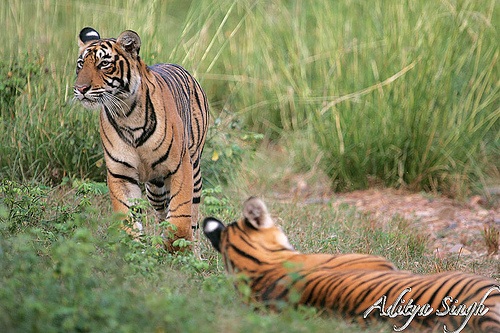Tigre: (58, 21, 209, 243), (222, 209, 487, 326)
